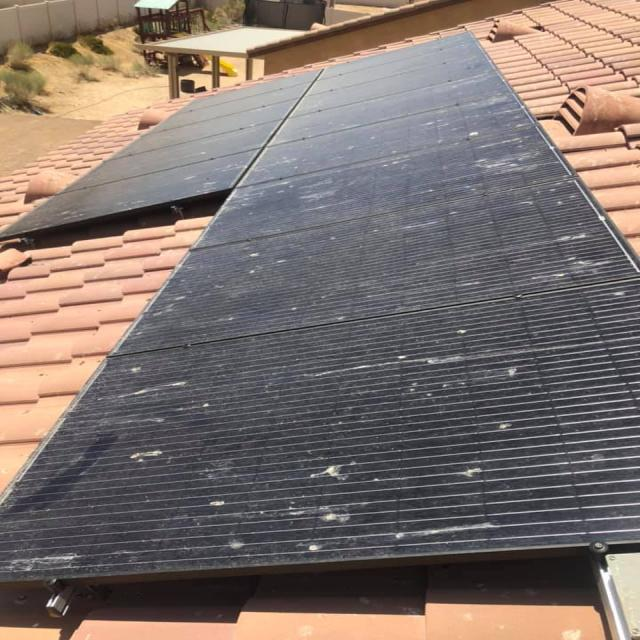dust-solar-panel: (3, 34, 637, 581)
